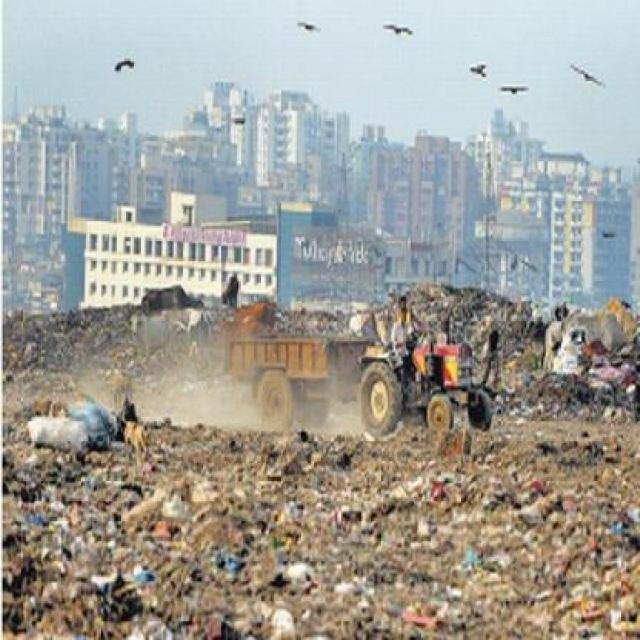garbage: (0, 419, 638, 639), (15, 318, 132, 500)
